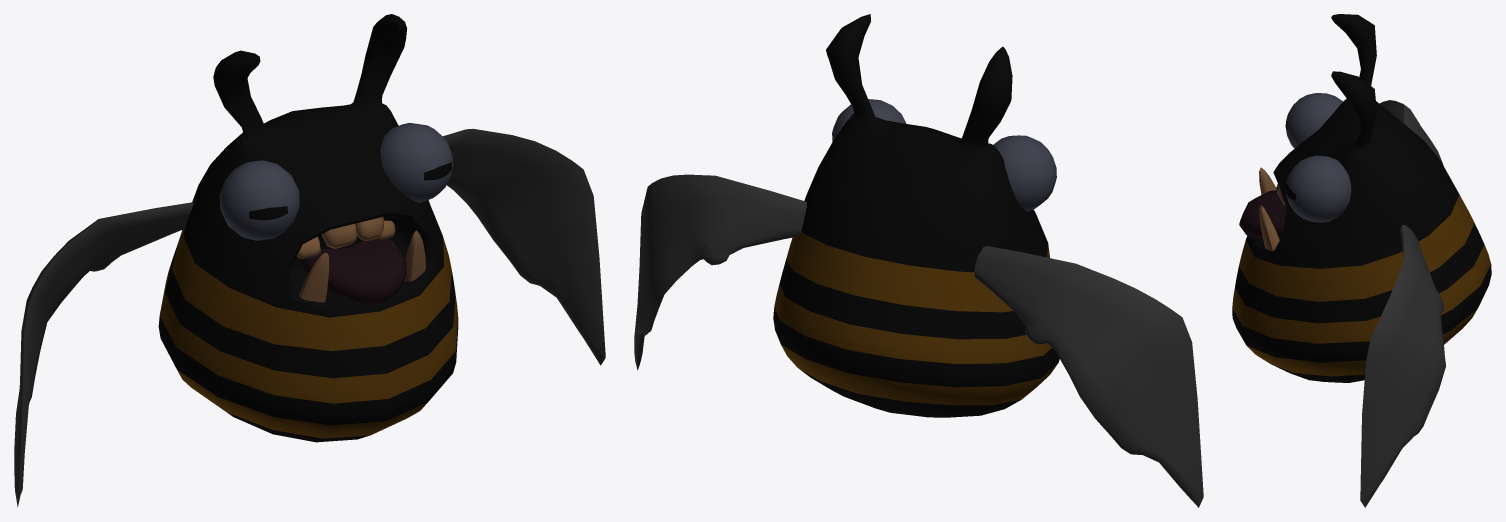
The model's file is Armabee_Evolved.obj.
3 renders of one model, left to right at view 1: azimuth 30°, elevation 25°; view 2: azimuth 150°, elevation 25°; view 3: azimuth 270°, elevation 25°, orthographic. The views are drawn at different scales.
Parts seen in each view (by area): view 1: Armabee_Evolved_Cube.001; view 2: Armabee_Evolved_Cube.001; view 3: Armabee_Evolved_Cube.001.
Part boxes in pixels (x1,y1,x2,y2): Armabee_Evolved_Cube.001: (14,14,605,507); Armabee_Evolved_Cube.001: (634,14,1203,507); Armabee_Evolved_Cube.001: (1232,14,1491,507).
Size of the model in its own units: 3.4 by 2.28 by 1.55.
